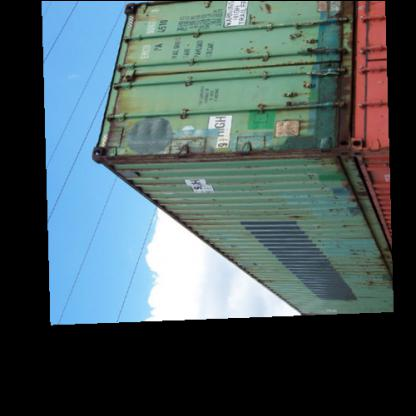Damage: (95, 132, 345, 178), (296, 1, 353, 153)
